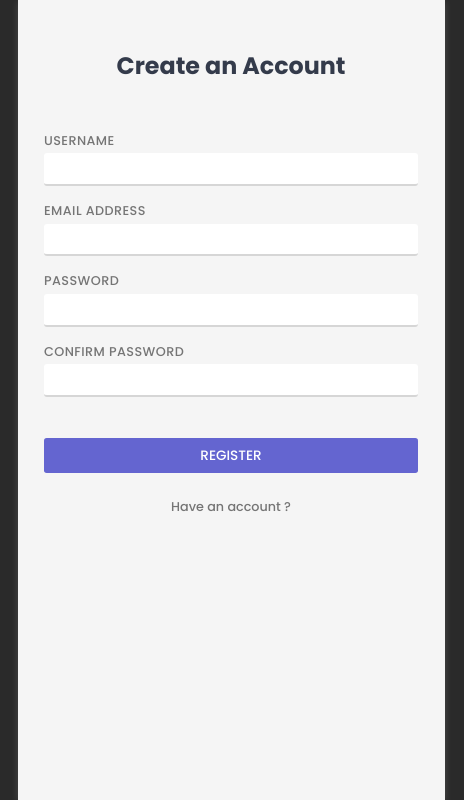
Test case: Register spec › should display error message when confirm password is wrong
This screenshot has width=464, height=800.
Step 1. Type "User Testing" into the field with id "username" → (231, 170), box [44,153,418,186]
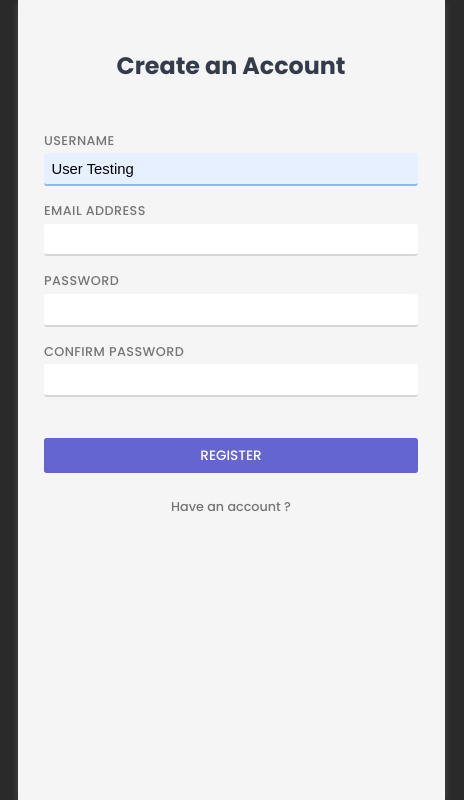
Step 2. Type "usertesting@mail.com" into the field with id "email" → (231, 241), box [44,224,418,257]
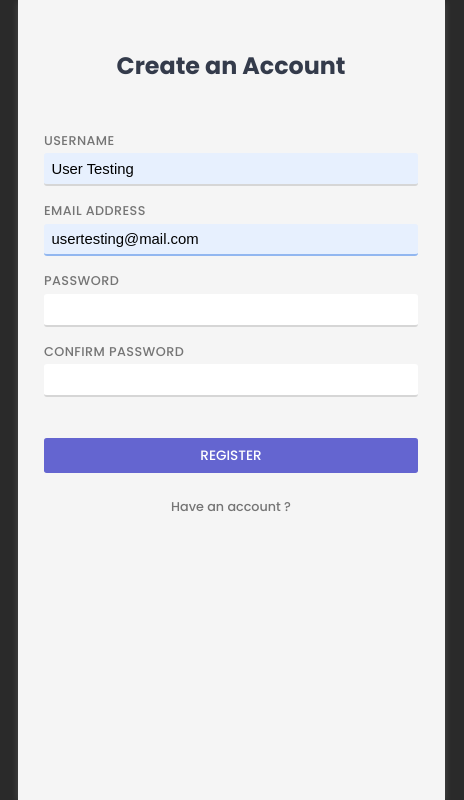
Step 3. Type "usertesting" into the password field labelled "Password" → (231, 311), box [44,294,418,327]
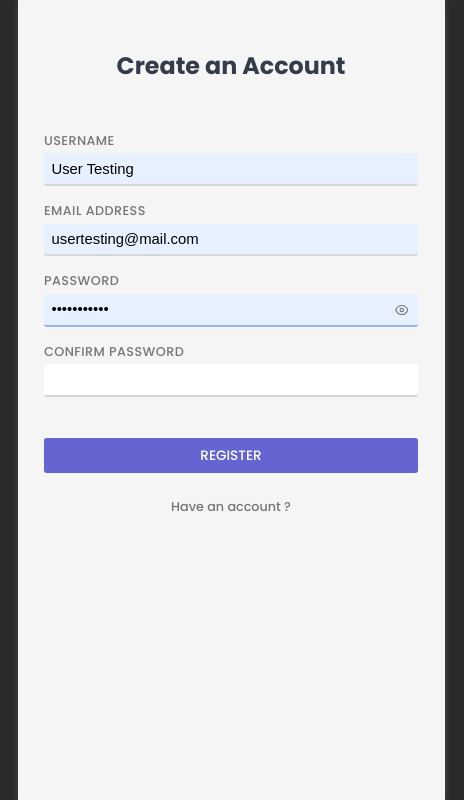
Step 4. Click the button "Register" → click(231, 456), box [44,438,418,473]
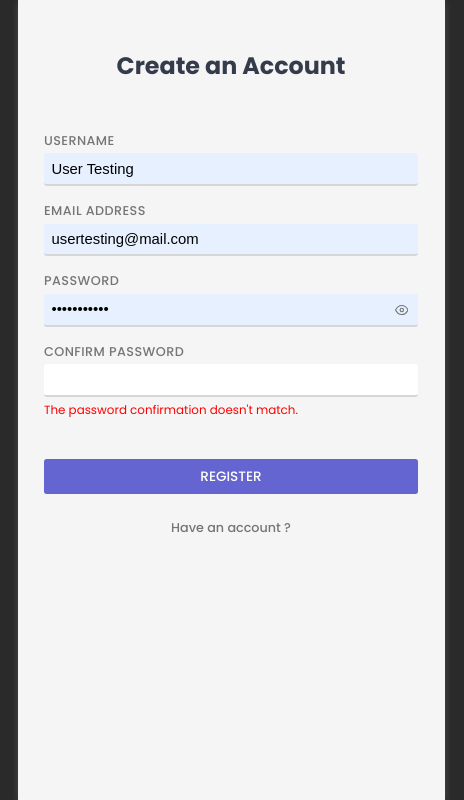
expect the text "The password confirmation doesn't match." is shown: met, box [44,402,298,418]
